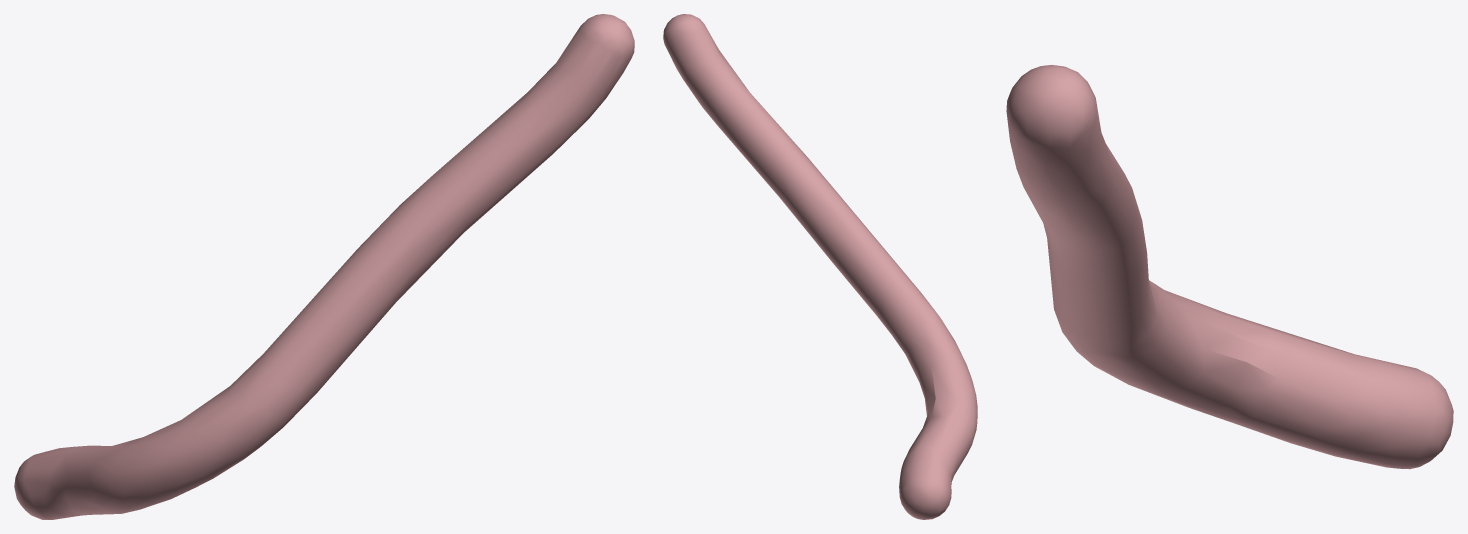
Rendered from fma14670_fj3096.glb.
The picture shows the model from 3 angles, left to right: view 1: azimuth 30°, elevation 25°; view 2: azimuth 150°, elevation 25°; view 3: azimuth 270°, elevation 25°; orthographic projection. The views are drawn at different scales.
Parts seen in each view (by area): view 1: FMA14670_FJ3096; view 2: FMA14670_FJ3096; view 3: FMA14670_FJ3096.
Boxes of the visible parts, box(x1,y1,x2,y2) form: FMA14670_FJ3096: box(14, 14, 634, 519); FMA14670_FJ3096: box(663, 14, 977, 519); FMA14670_FJ3096: box(1006, 65, 1453, 469).
Bounding box in the file's own units: 0.0332 × 0.0307 × 0.0174.
